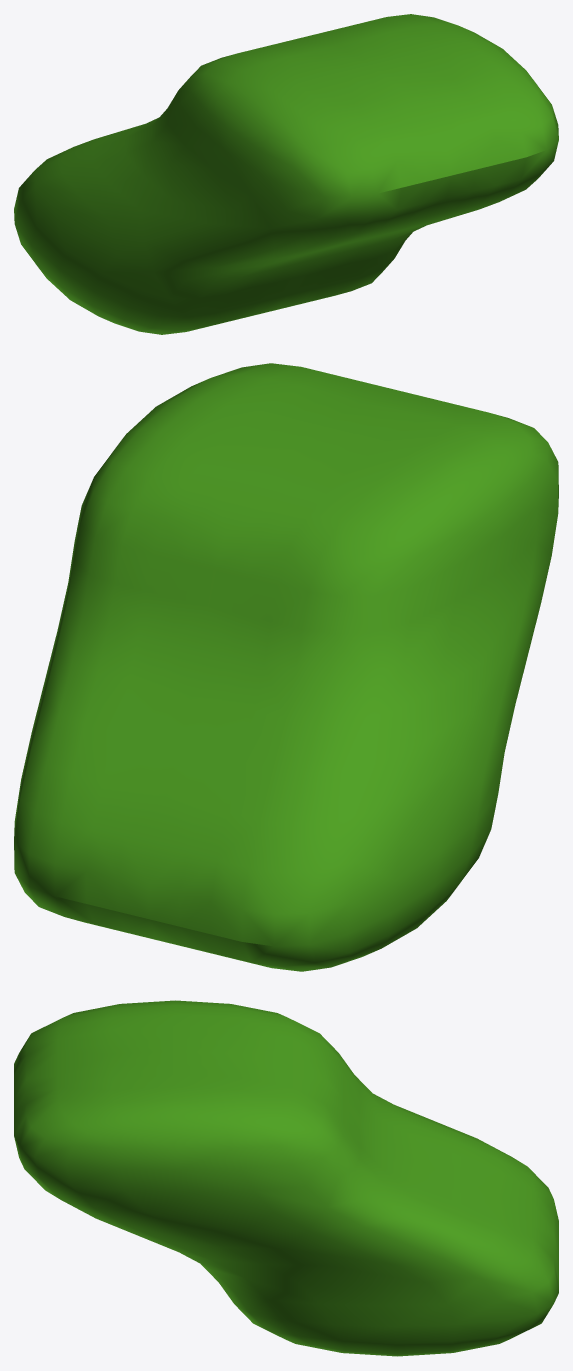
File: Bush 5.fbx
3 renders of one model, top to bottom at view 1: azimuth 30°, elevation 25°; view 2: azimuth 150°, elevation 25°; view 3: azimuth 270°, elevation 25°, orthographic. The views are drawn at different scales.
Parts seen in each view (by area): view 1: Cube; view 2: Cube; view 3: Cube.
Boxes of the visible parts, x1=… form: Cube: x1=14, y1=14, x2=558, y2=334; Cube: x1=14, y1=363, x2=558, y2=971; Cube: x1=14, y1=1000, x2=558, y2=1356.
Bounding box in the file's own units: 231 × 183 × 320.
